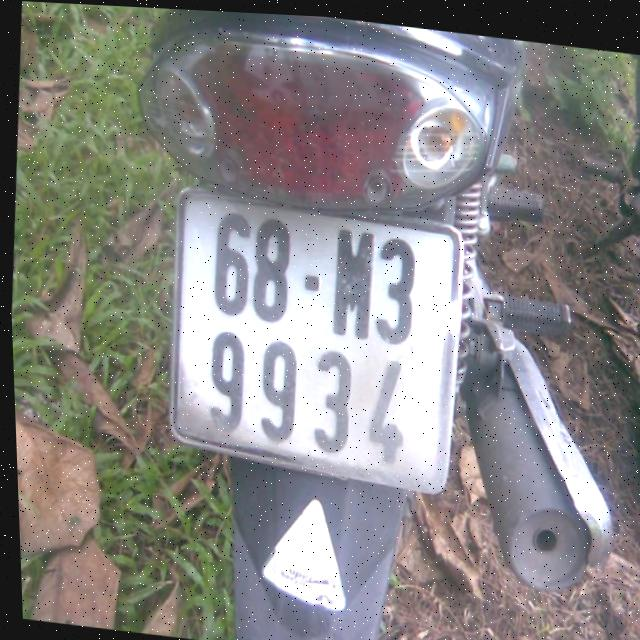motorcycle: (91, 5, 640, 640)
plate: (153, 178, 475, 507)
